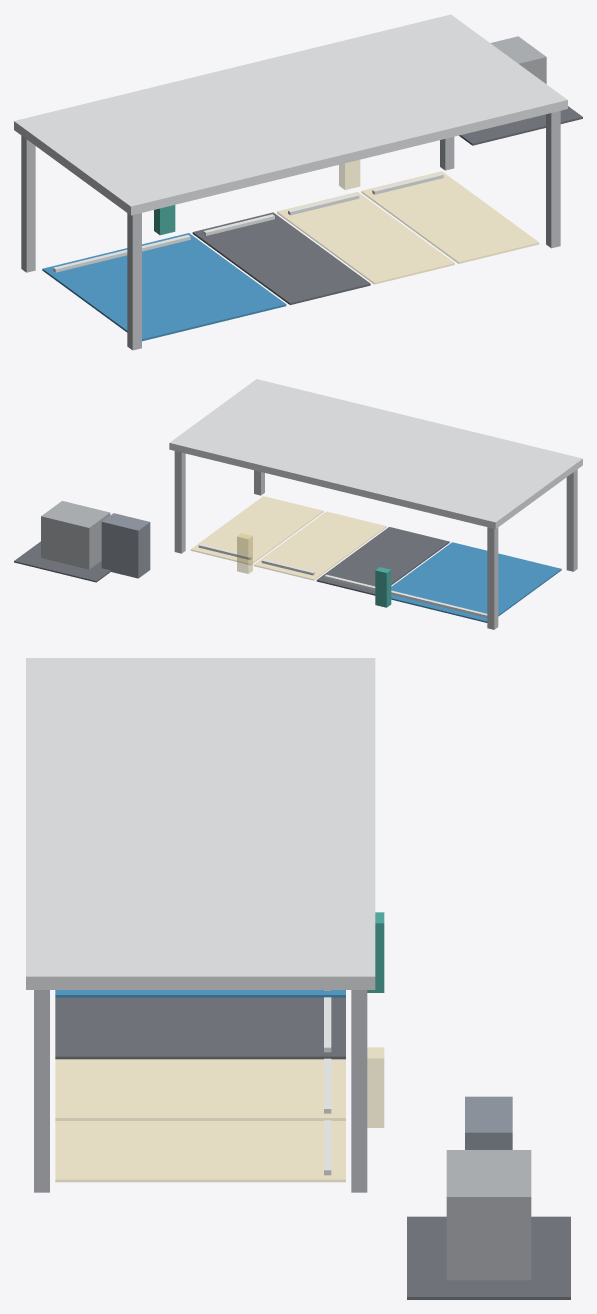
The model's file is PWC007.glb.
3 views of the same model, one above another, from view 1: azimuth 30°, elevation 25°; view 2: azimuth 150°, elevation 25°; view 3: azimuth 270°, elevation 25° (orthographic). The views are drawn at different scales.
Visible parts, largest first — view 1: PWC007_evse_build; view 2: PWC007_evse_build; view 3: PWC007_evse_build.
Part boxes in pixels (x1,y1,x2,y2): PWC007_evse_build: (14,14,582,350); PWC007_evse_build: (14,379,582,629); PWC007_evse_build: (26,658,570,1299).
Bounding box in the file's own units: 18.9 × 4.58 × 10.3.
